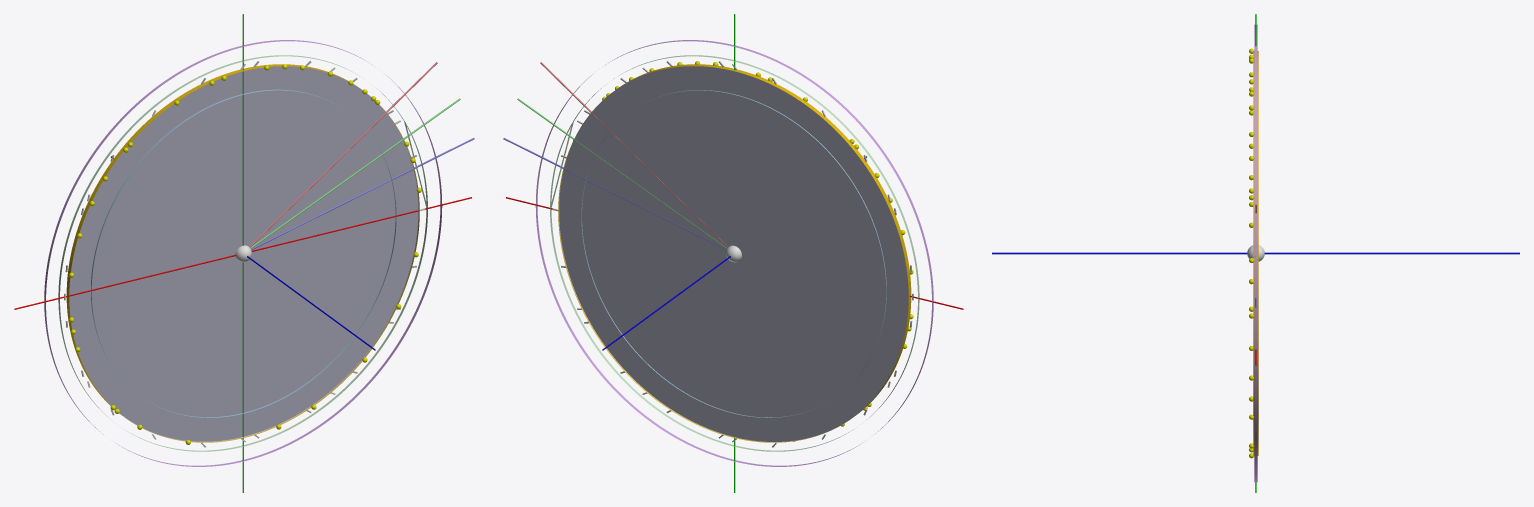
The model's file is breathing_crystal_v2_1.glb.
3 views of the same model, side by side, from view 1: azimuth 30°, elevation 25°; view 2: azimuth 150°, elevation 25°; view 3: azimuth 270°, elevation 25° (orthographic).
Parts seen in each view (by area): view 1: PLATE_ROOT432, BAND_0.487, GUIDE_390, DE_RING, BAND_0.429, AXIS_Y, AXIS_X, BAND_0.456, RAIL_SQRT17, RAIL_SQRT5, RAIL_SQRT2; view 2: PLATE_ROOT432, BAND_0.487, GUIDE_390, DE_RING, BAND_0.429, BAND_0.456; view 3: BAND_0.487, DE_RING, AXIS_Z.
Part boxes in pixels (x1,y1,x2,y2): PLATE_ROOT432: [69, 66, 418, 441]; BAND_0.487: [44, 40, 442, 466]; GUIDE_390: [58, 55, 427, 451]; DE_RING: [66, 64, 419, 442]; BAND_0.429: [91, 89, 396, 417]; AXIS_Y: [242, 14, 243, 492]; AXIS_X: [14, 197, 471, 309]; BAND_0.456: [67, 69, 419, 442]; RAIL_SQRT17: [251, 138, 474, 250]; RAIL_SQRT5: [250, 98, 460, 248]; RAIL_SQRT2: [249, 62, 437, 247]; PLATE_ROOT432: [559, 66, 908, 441]; BAND_0.487: [535, 40, 933, 466]; GUIDE_390: [550, 55, 919, 451]; DE_RING: [558, 64, 911, 442]; BAND_0.429: [581, 90, 886, 417]; BAND_0.456: [558, 65, 910, 442]; BAND_0.487: [1254, 24, 1257, 482]; DE_RING: [1253, 51, 1258, 455]; AXIS_Z: [992, 252, 1519, 254].
Bounding box in the file's own units: 3.02 × 3 × 3.
